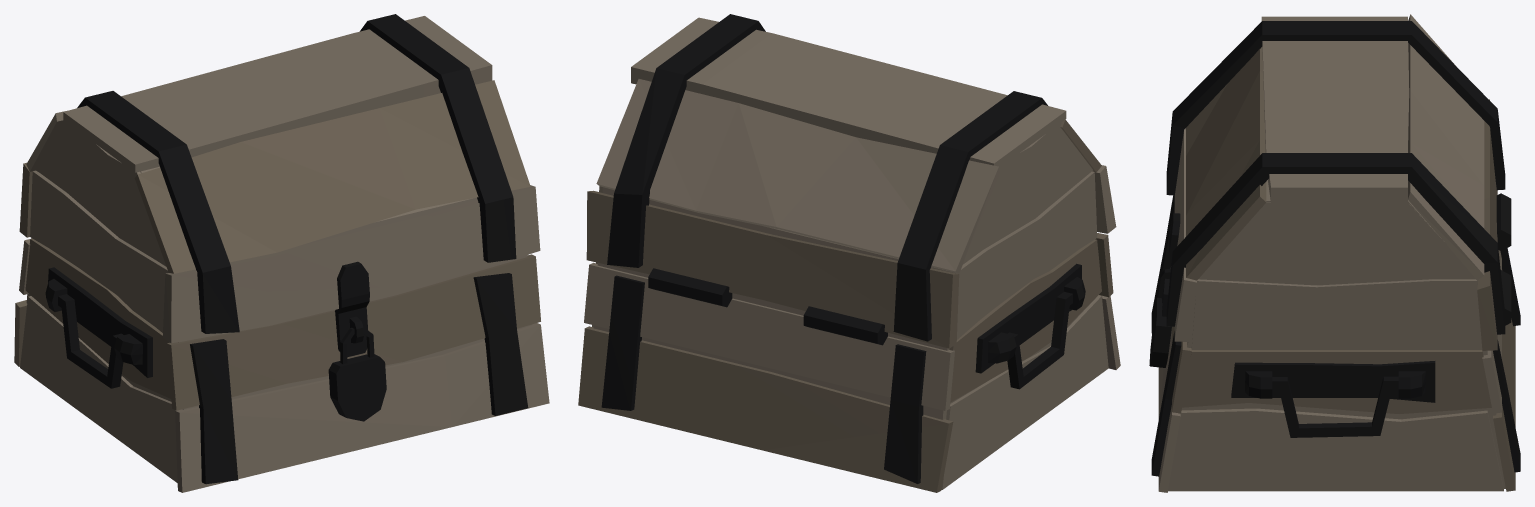
File: chest.glb
The picture shows the model from 3 angles, left to right: view 1: azimuth 30°, elevation 25°; view 2: azimuth 150°, elevation 25°; view 3: azimuth 270°, elevation 25°; orthographic projection.
Parts seen in each view (by area): view 1: Chest; view 2: Chest; view 3: Chest.
Boxes of the visible parts, <box> form: Chest: <box>14,14,549,492</box>; Chest: <box>578,14,1120,492</box>; Chest: <box>1149,14,1520,492</box>.
Size of the model in its own units: 0.8949 by 0.6624 by 0.7154.
1 material, 1 textured.
